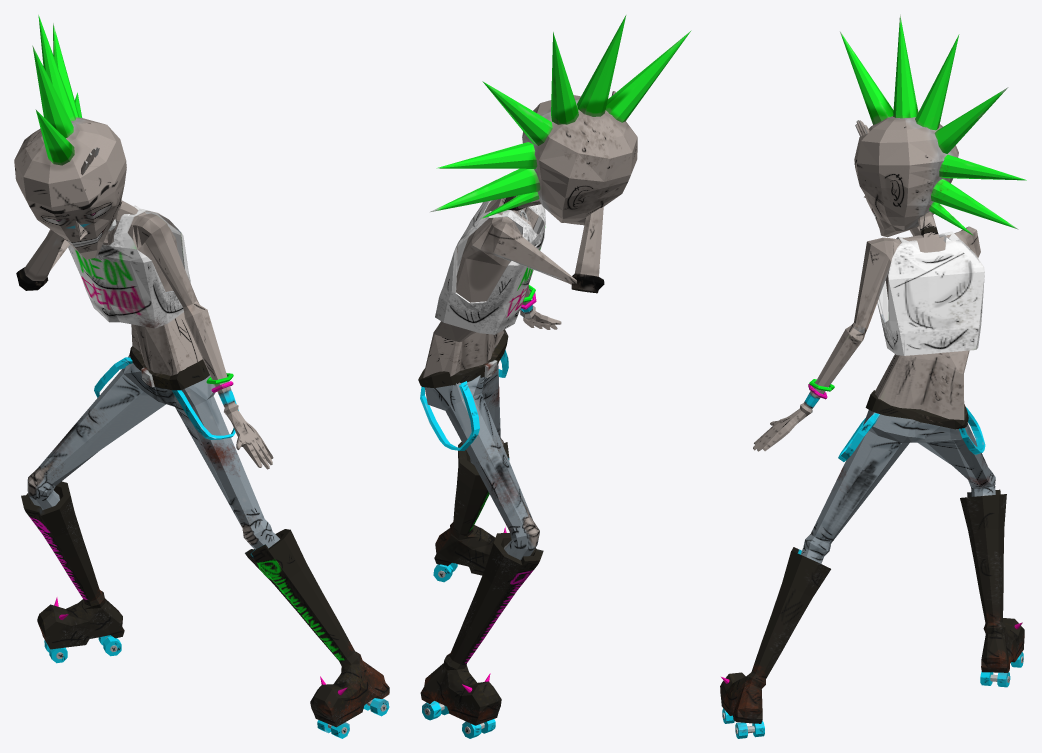
File: punkAnimation_000060.obj
The picture shows the model from 3 angles, left to right: view 1: azimuth 30°, elevation 25°; view 2: azimuth 150°, elevation 25°; view 3: azimuth 270°, elevation 25°; orthographic projection. The views are drawn at different scales.
Parts seen in each view (by area): view 1: Cube.004_Cube.003; view 2: Cube.004_Cube.003; view 3: Cube.004_Cube.003.
Boxes of the visible parts, x1,y1,x2,y2 form: Cube.004_Cube.003: (14, 15, 389, 738); Cube.004_Cube.003: (418, 15, 691, 738); Cube.004_Cube.003: (720, 14, 1026, 738).
Size of the model in its own units: 3.1 by 6.72 by 3.05.
